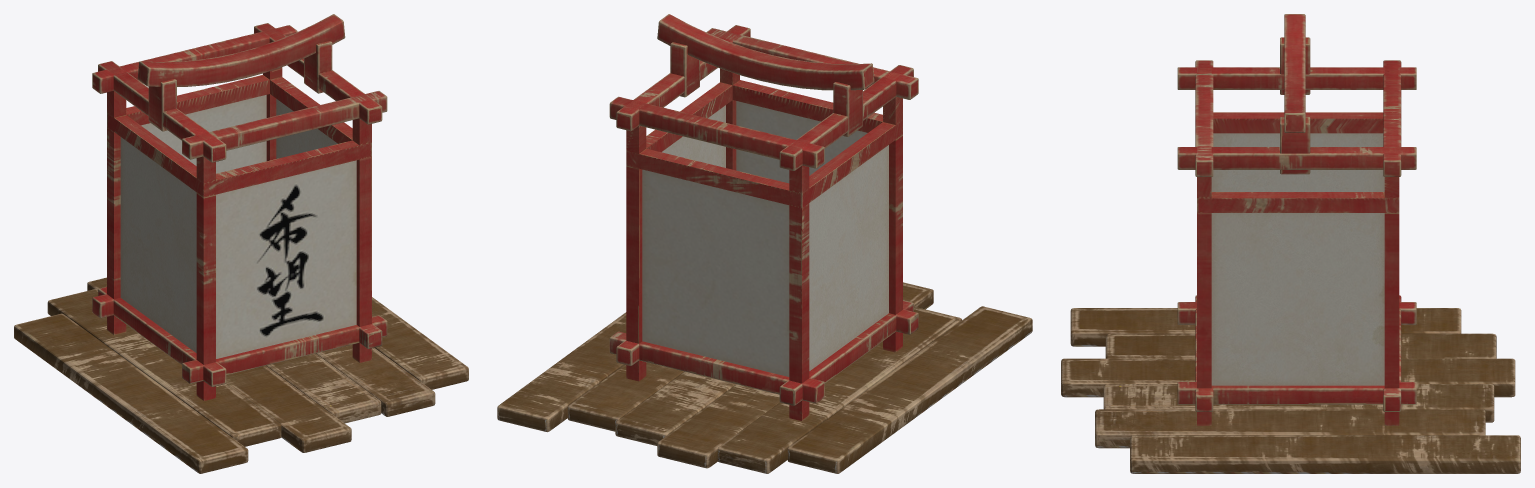
The model's file is japan_lamp_-_old_style.glb.
3 renders of one model, left to right at view 1: azimuth 30°, elevation 25°; view 2: azimuth 150°, elevation 25°; view 3: azimuth 270°, elevation 25°, orthographic. The views are drawn at different scales.
Visible parts, largest first — view 1: Box020; view 2: Box020; view 3: Box020.
Boxes of the visible parts, x1,y1,x2,y2 form: Box020: (14, 14, 468, 473); Box020: (497, 14, 1032, 473); Box020: (1061, 14, 1520, 473).
Bounding box in the file's own units: 1.57 × 1.61 × 2.
Materials: 1 (1 with a texture image).
